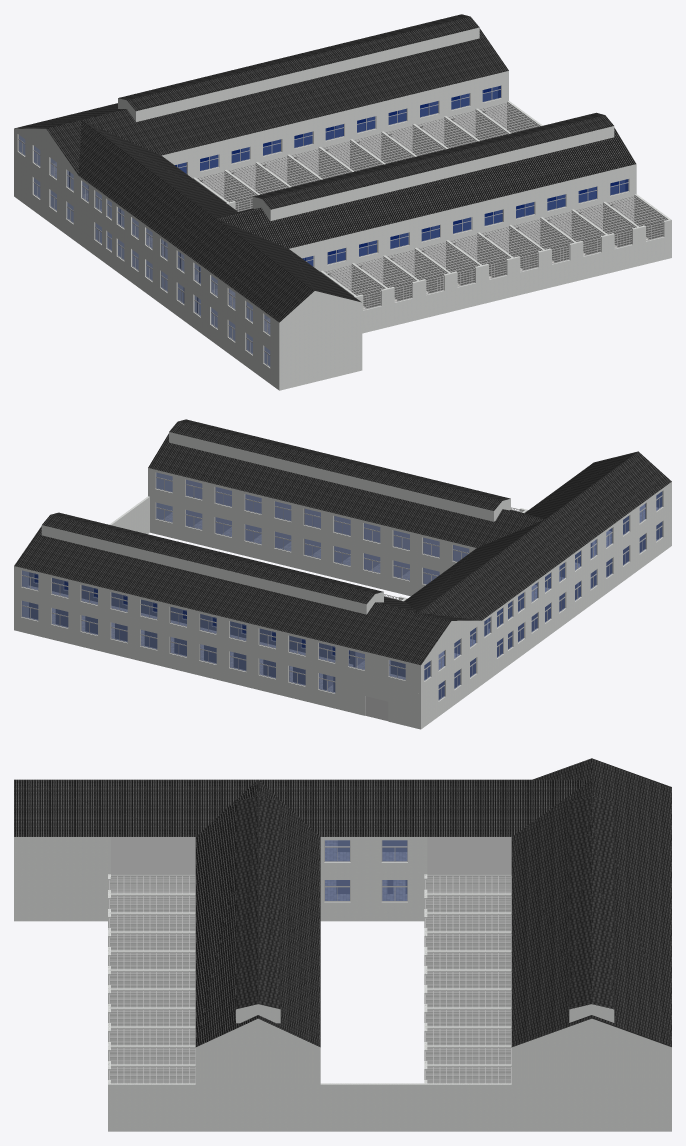
Rendered from SM_Building07.FBX.
3 views of the same model, one above another, from view 1: azimuth 30°, elevation 25°; view 2: azimuth 150°, elevation 25°; view 3: azimuth 270°, elevation 25° (orthographic). The views are drawn at different scales.
Visible parts, largest first — view 1: SM_Building07_wd, SM_Building07_1cq, SM_Building07_2cq, SM_Building07_1c, SM_Building07_2c; view 2: SM_Building07_wd, SM_Building07_1cq, SM_Building07_2cq, SM_Building07_1c, SM_Building07_2c; view 3: SM_Building07_wd, SM_Building07_1cq, SM_Building07_2cq, SM_Building07_2c, SM_Building07_1c.
Boxes of the visible parts, <box> form: SM_Building07_wd: <box>14,14,636,322</box>; SM_Building07_1cq: <box>14,95,671,390</box>; SM_Building07_2cq: <box>14,71,636,352</box>; SM_Building07_1c: <box>34,105,649,365</box>; SM_Building07_2c: <box>34,147,270,333</box>; SM_Building07_wd: <box>14,419,671,665</box>; SM_Building07_1cq: <box>14,481,671,729</box>; SM_Building07_2cq: <box>14,468,671,693</box>; SM_Building07_1c: <box>28,492,657,699</box>; SM_Building07_2c: <box>27,504,658,679</box>; SM_Building07_wd: <box>14,758,671,1047</box>; SM_Building07_1cq: <box>14,874,671,1131</box>; SM_Building07_2cq: <box>14,837,671,1084</box>; SM_Building07_2c: <box>325,840,407,861</box>; SM_Building07_1c: <box>325,880,407,900</box>.
Size of the model in its own units: 4934 by 5270 by 1095.
